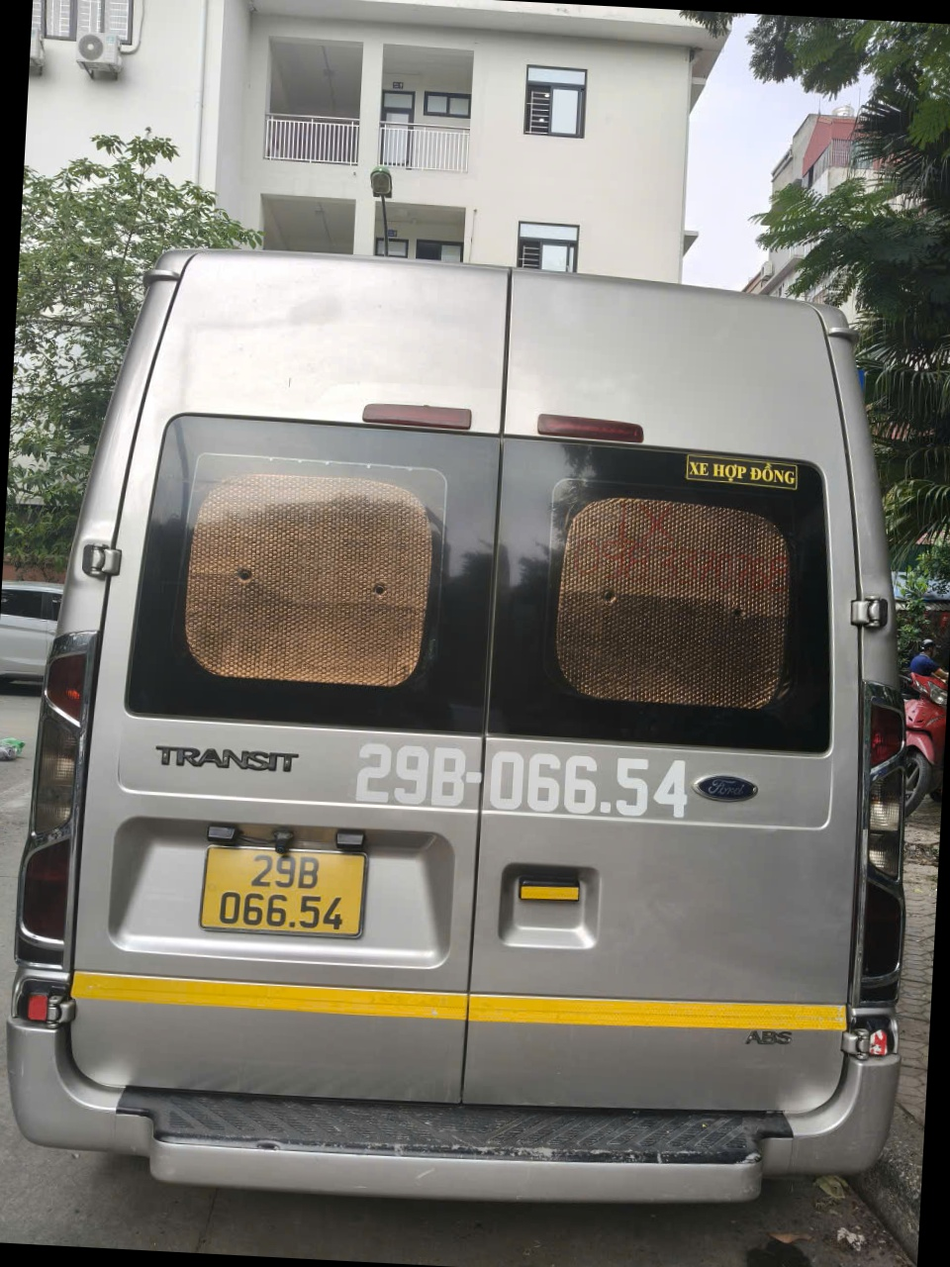plate: (145, 744, 307, 772)
